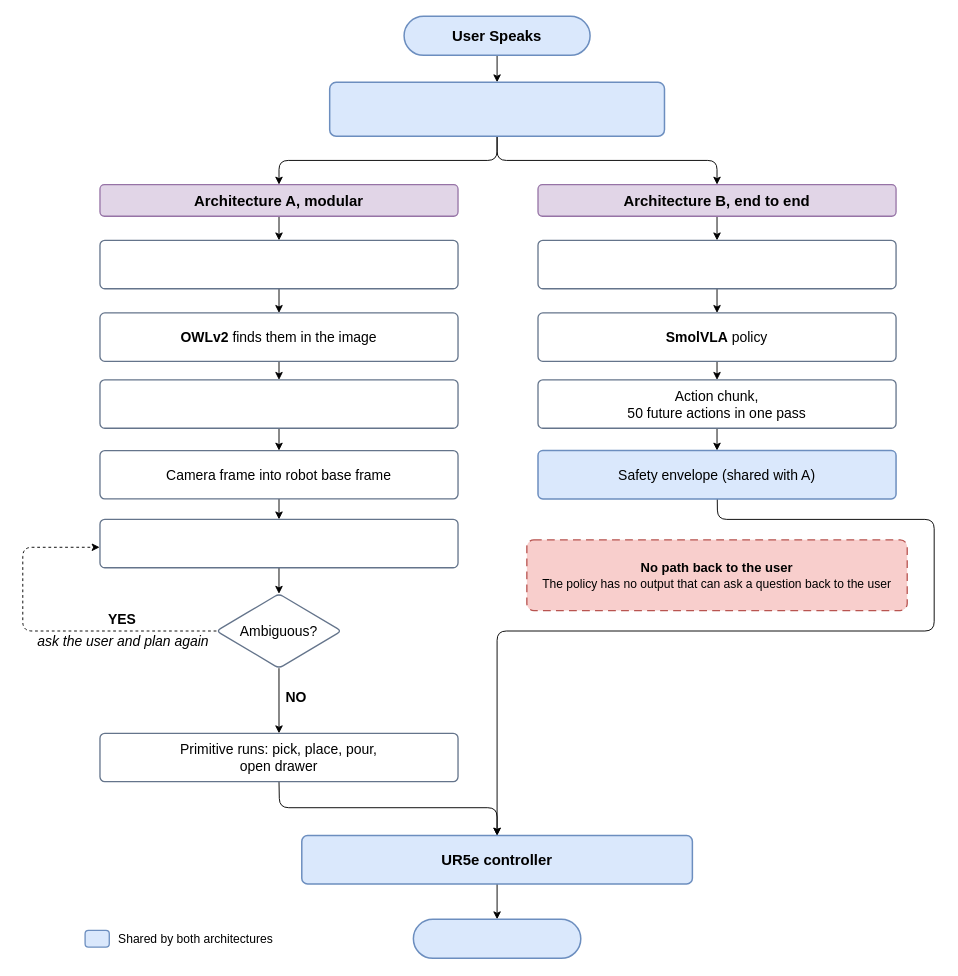
Image size: 958x976. Some labels were removed from this diagram. Here are the shapes that lost their labels. From the top down, the centre of each, then its label:
(496,109): Speech front end (Whisper large-v3)
(278,264): LLM picks the noun phrases
(716,264): Camera images, robot state and the transcript
(278,403): Depth reading turned into a 3D point
(278,543): LLM plans the primitives
(496,938): The arm moves
